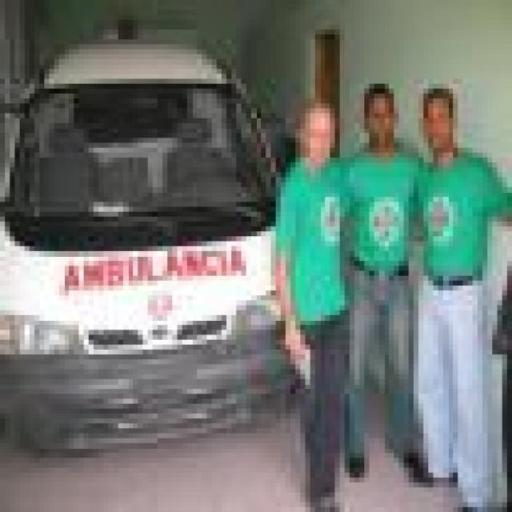Police car: (0, 0, 315, 512)
